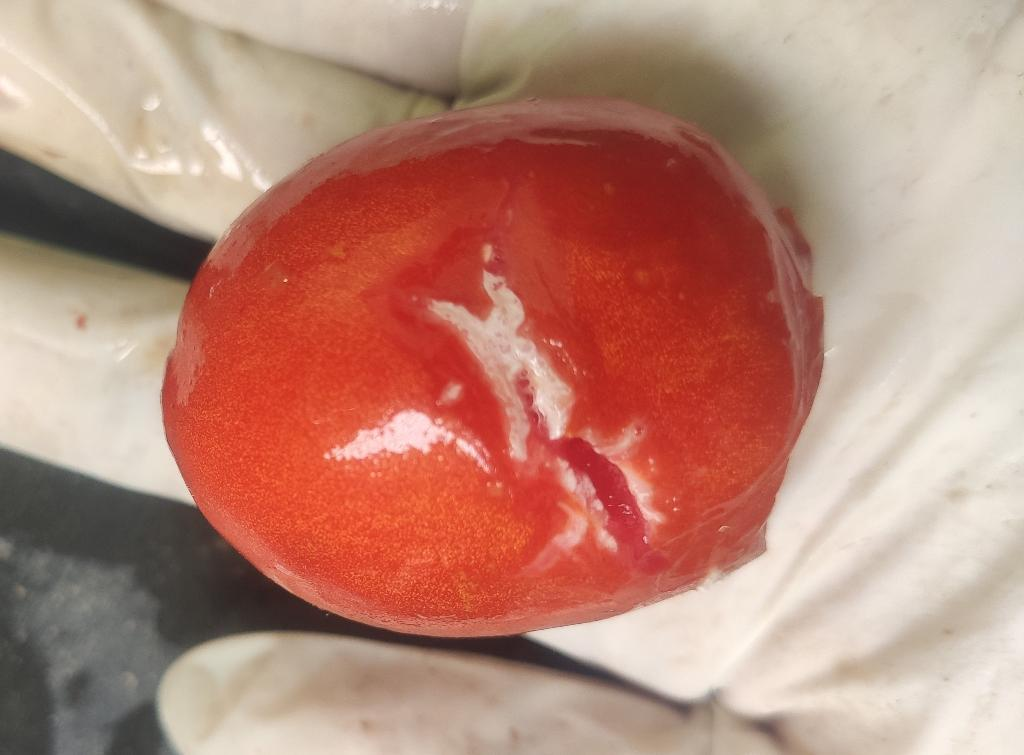rot_mold_decay: (429, 275, 569, 455)
surface_damage: (520, 379, 668, 577)
tomato: (161, 99, 823, 636)
